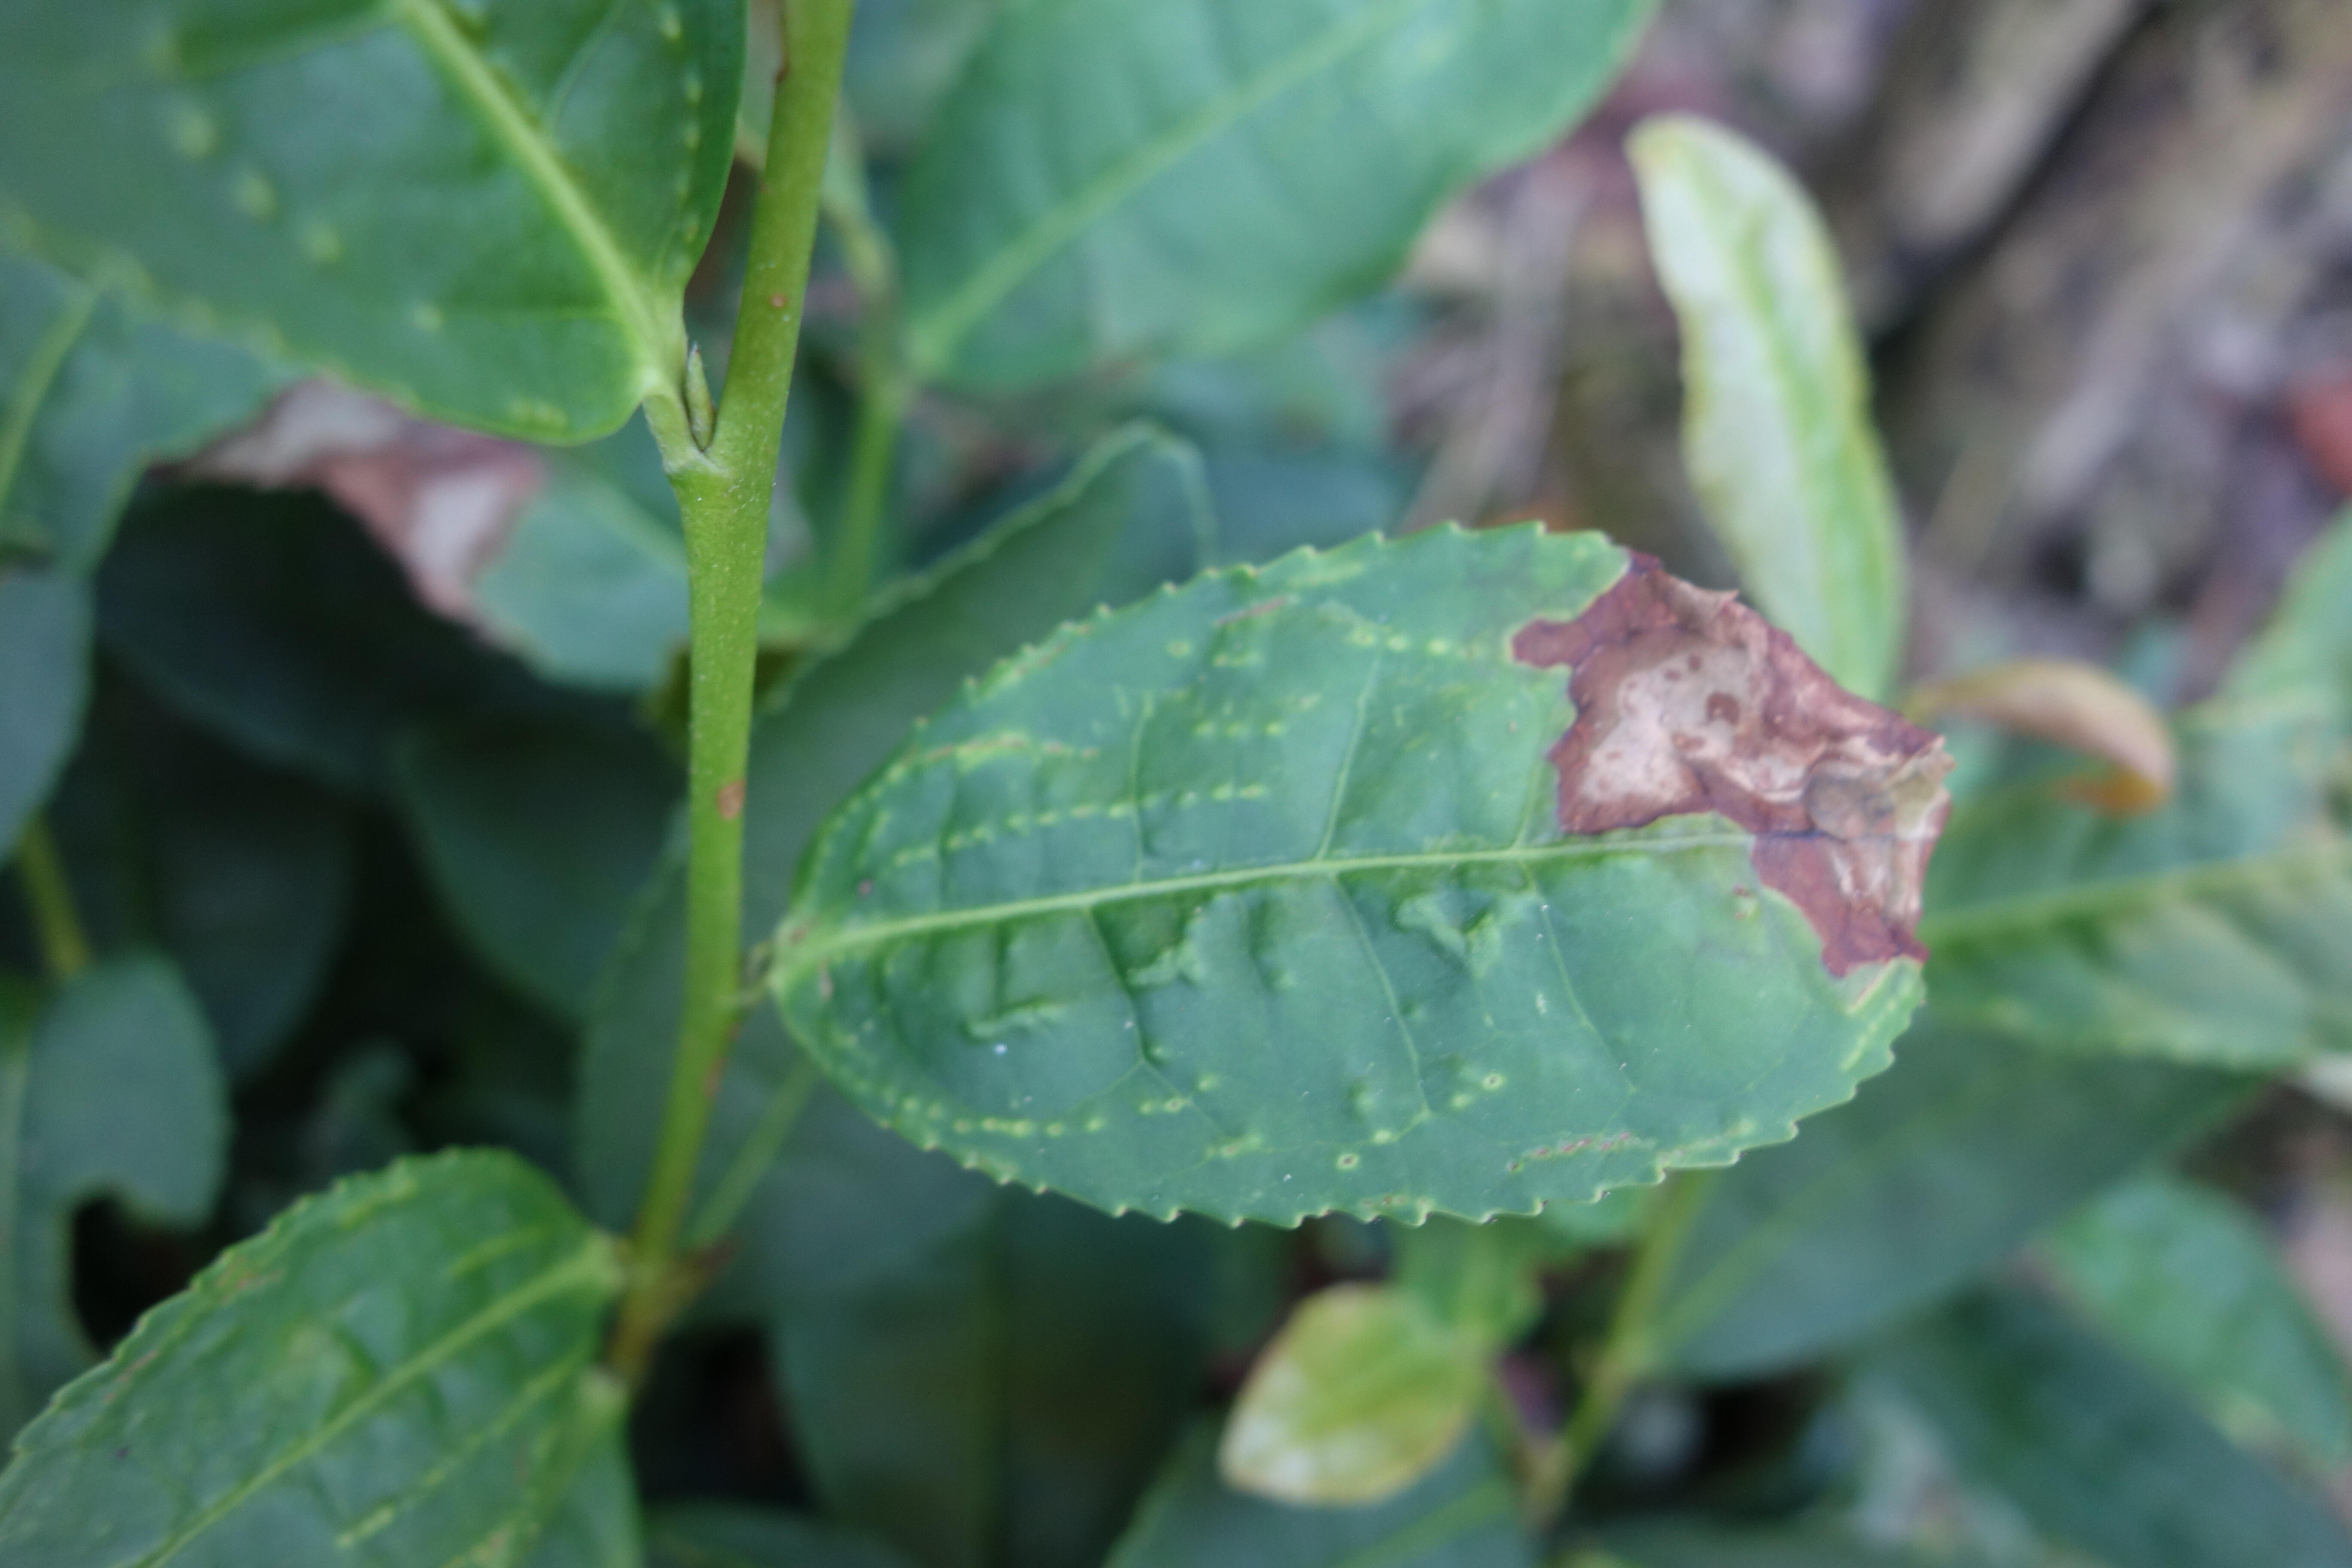tanju_high: (759, 514, 1956, 1235)
